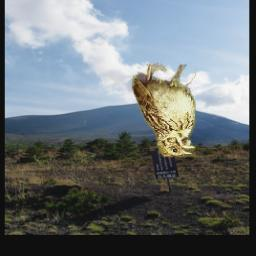Sparrow: (133, 62, 197, 157)
